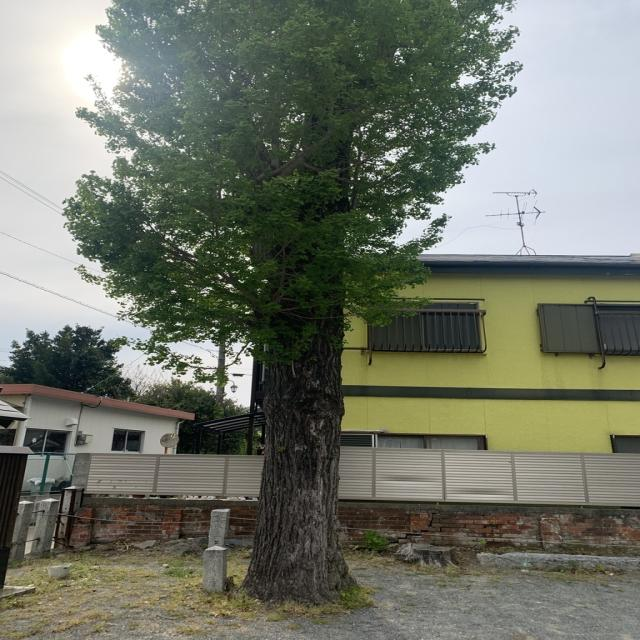ginkgo: (56, 0, 524, 605)
